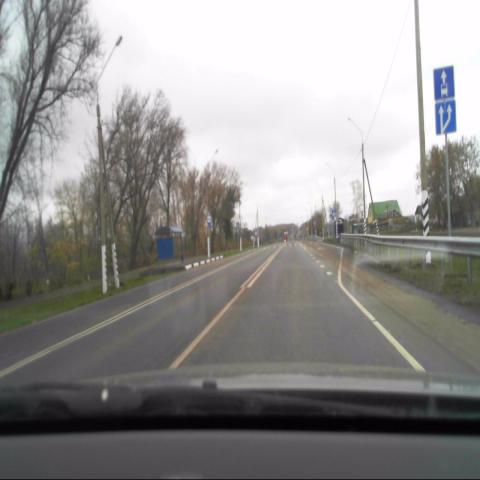5_14: (433, 64, 456, 100)
